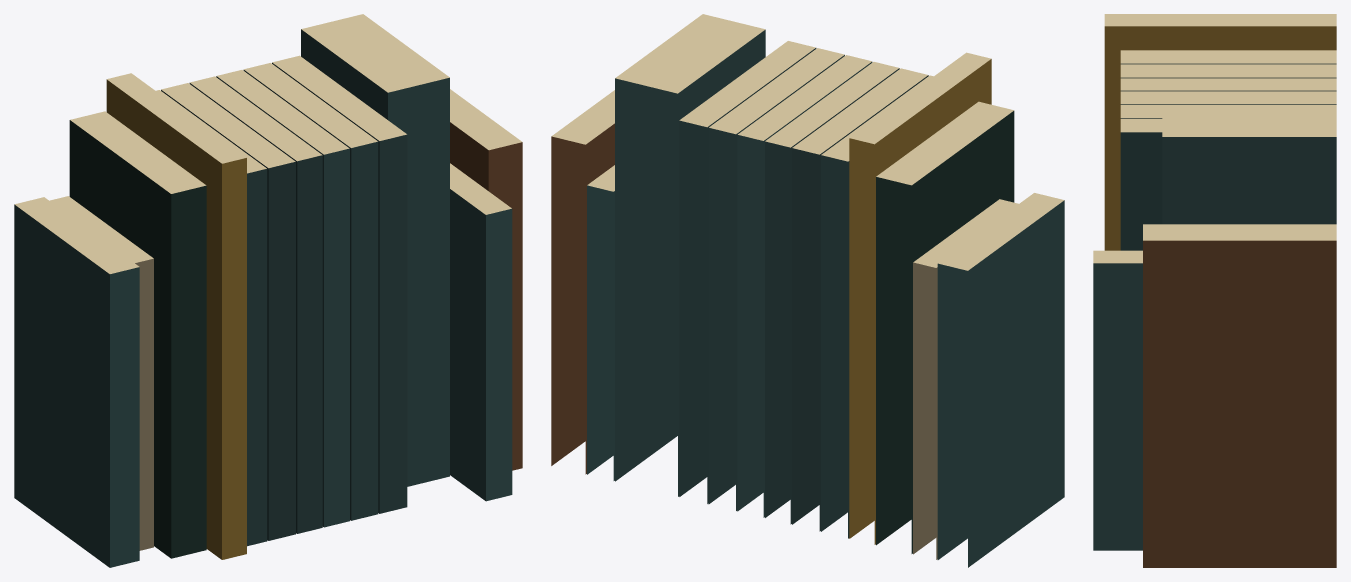
File: bookrow_tall_1_lod.glb
3 renders of one model, left to right at view 1: azimuth 30°, elevation 25°; view 2: azimuth 150°, elevation 25°; view 3: azimuth 270°, elevation 25°, orthographic.
Parts seen in each view (by area): view 1: bookrow_tall_1_lod; view 2: bookrow_tall_1_lod; view 3: bookrow_tall_1_lod.
Part boxes in pixels (left/top/right/bottom): bookrow_tall_1_lod: left=14, top=14, right=522, bottom=567; bookrow_tall_1_lod: left=551, top=14, right=1064, bottom=567; bookrow_tall_1_lod: left=1093, top=14, right=1336, bottom=567.
Bounding box in the file's own units: 0.4649 × 0.4303 × 0.2373.
